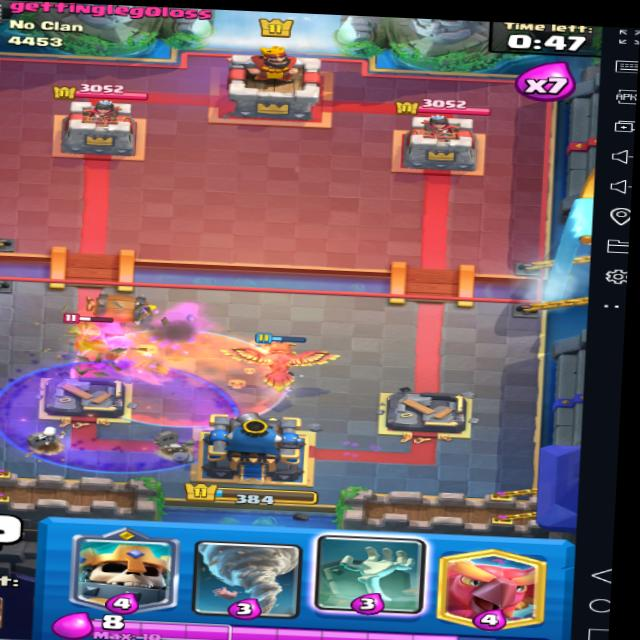musketeer: (67, 313, 108, 355)
